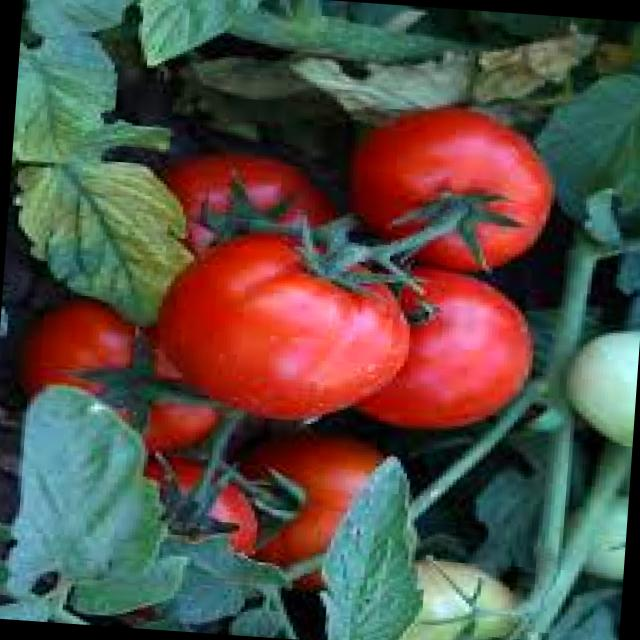Tomato: (147, 228, 423, 440), (348, 103, 574, 282), (18, 298, 228, 466), (362, 259, 542, 436), (168, 136, 356, 285), (237, 422, 394, 572), (337, 548, 538, 640), (144, 450, 278, 568), (562, 428, 633, 590), (558, 318, 640, 446)
